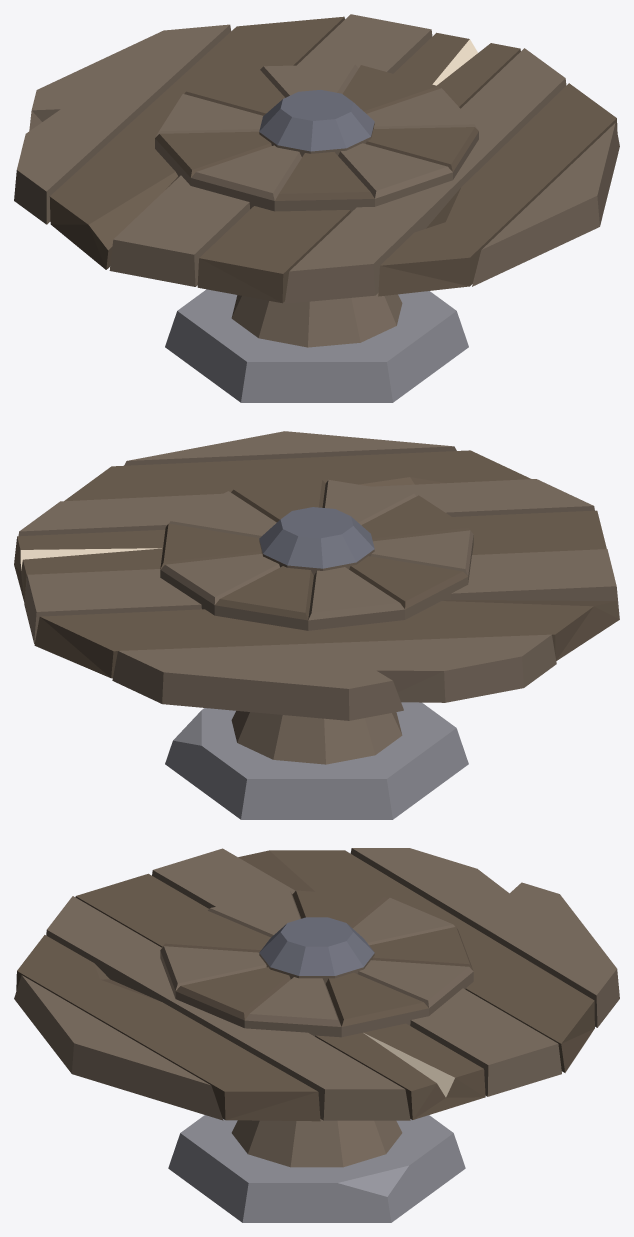
The model's file is table.glb.
The picture shows the model from 3 angles, top to bottom: view 1: azimuth 30°, elevation 25°; view 2: azimuth 150°, elevation 25°; view 3: azimuth 270°, elevation 25°; orthographic projection. The views are drawn at different scales.
Visible parts, largest first — view 1: table; view 2: table; view 3: table.
Boxes of the visible parts, bbox=[...] form: table: bbox=[14, 14, 619, 402]; table: bbox=[14, 431, 619, 819]; table: bbox=[14, 848, 619, 1222].
Size of the model in its own units: 0.8613 by 0.3874 by 0.9.
Materials: 1 (1 with a texture image).
